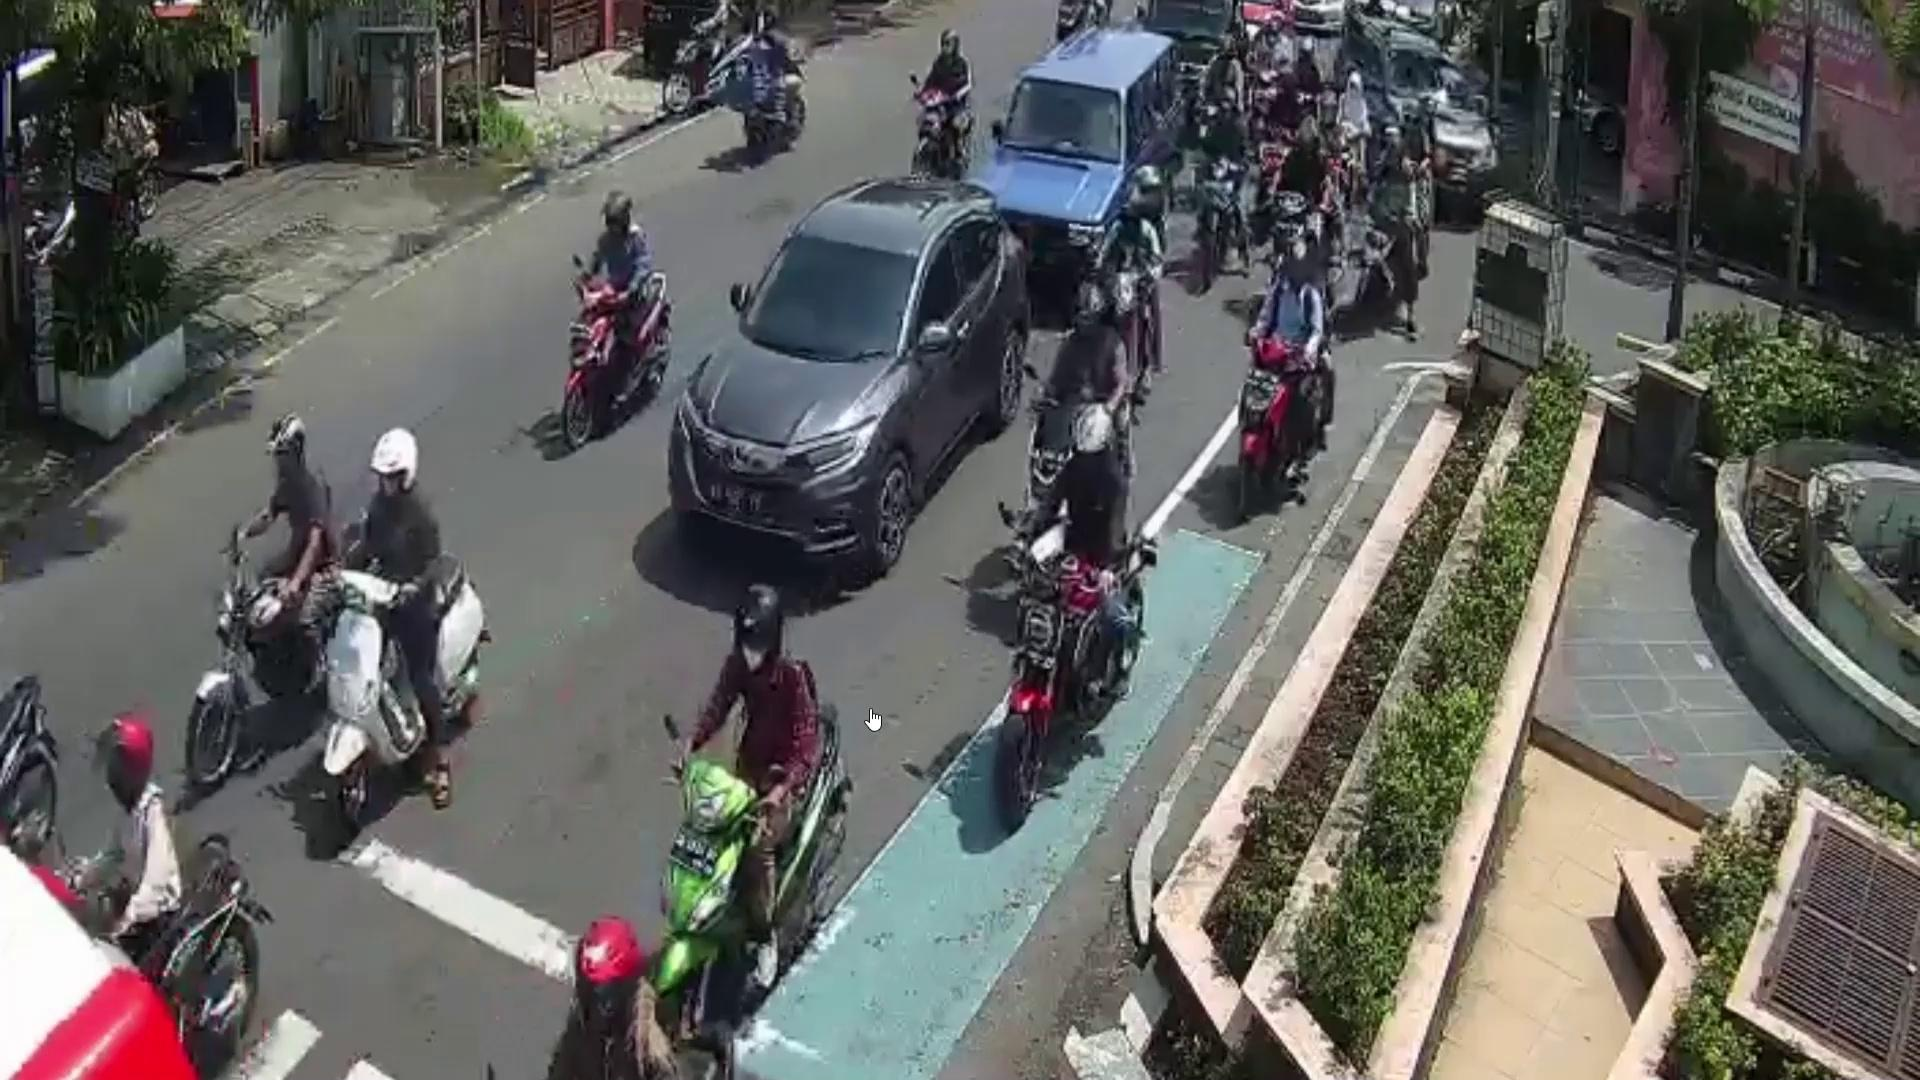car: (669, 171, 1033, 558), (971, 28, 1189, 295), (1336, 8, 1501, 219)
motorbike: (658, 700, 851, 1034), (996, 517, 1141, 835), (331, 554, 491, 820), (191, 537, 352, 787), (551, 258, 682, 465), (1230, 323, 1333, 531), (719, 42, 815, 158), (887, 67, 977, 171)
